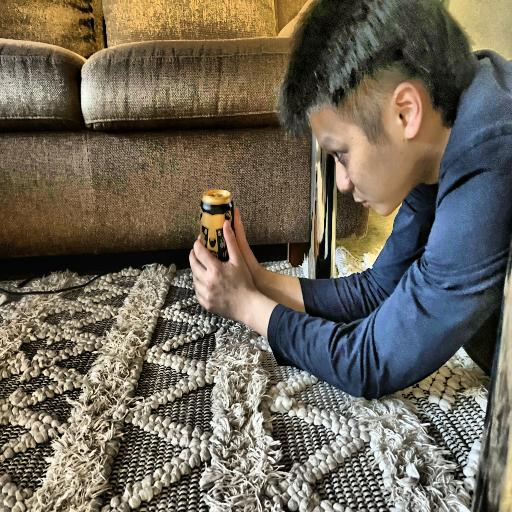karhu: (196, 188, 240, 307)
